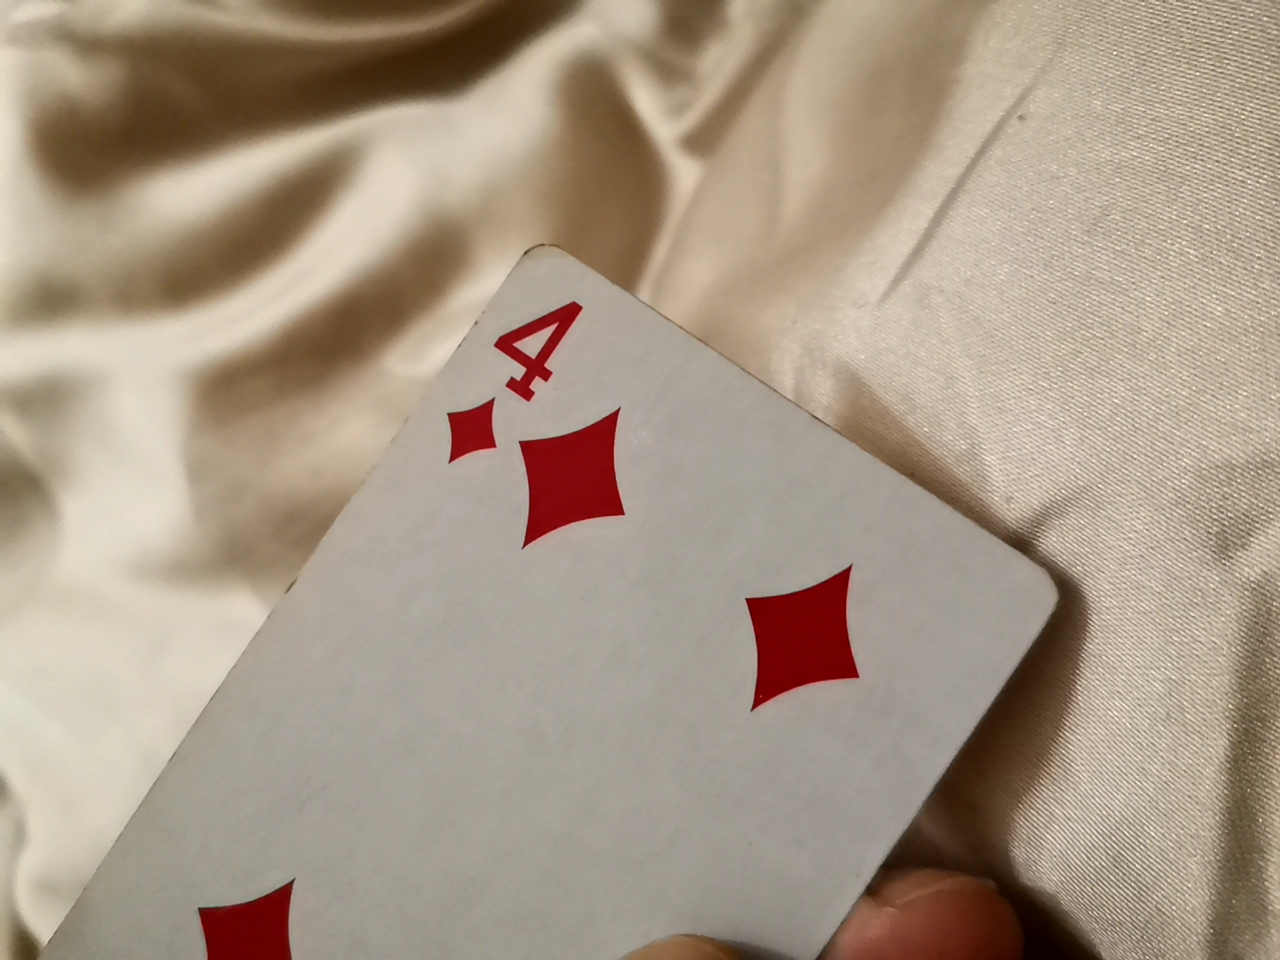fk 4: (6, 217, 1106, 957)
